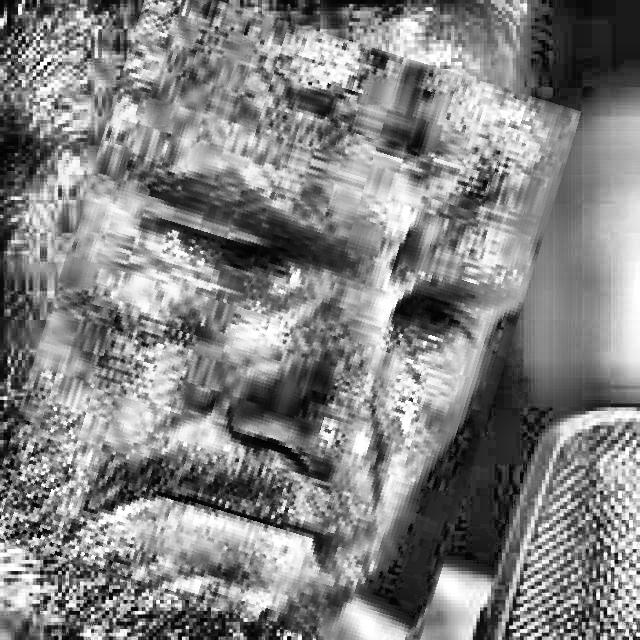sad: (17, 6, 543, 640)
